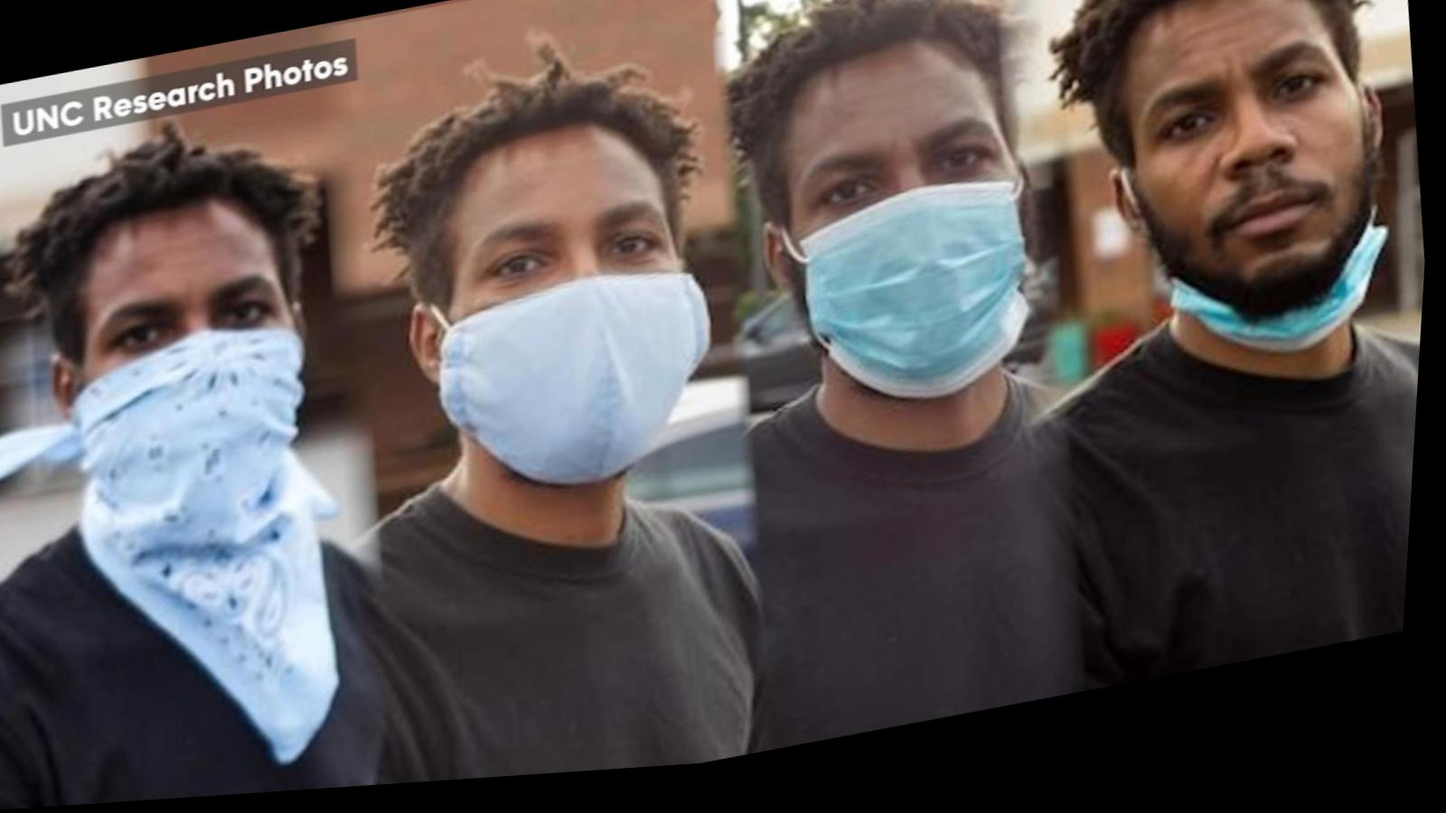OK: (412, 185, 718, 493), (763, 114, 1048, 420), (63, 259, 324, 528)
WRONG: (1103, 38, 1422, 391)
